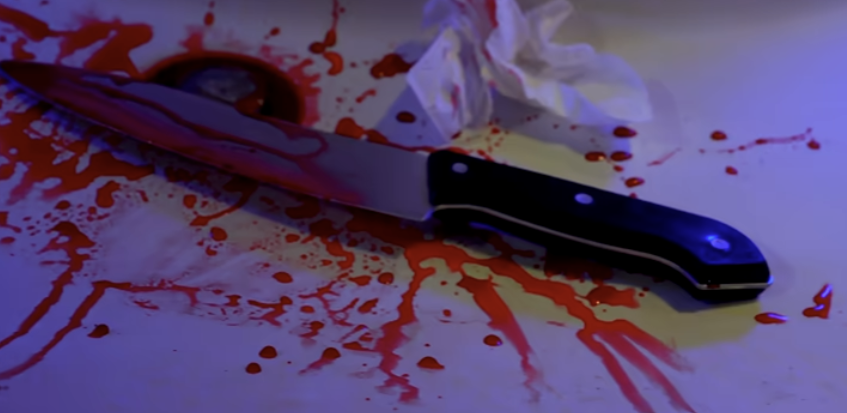blood_45.png: (7, 3, 836, 394)
